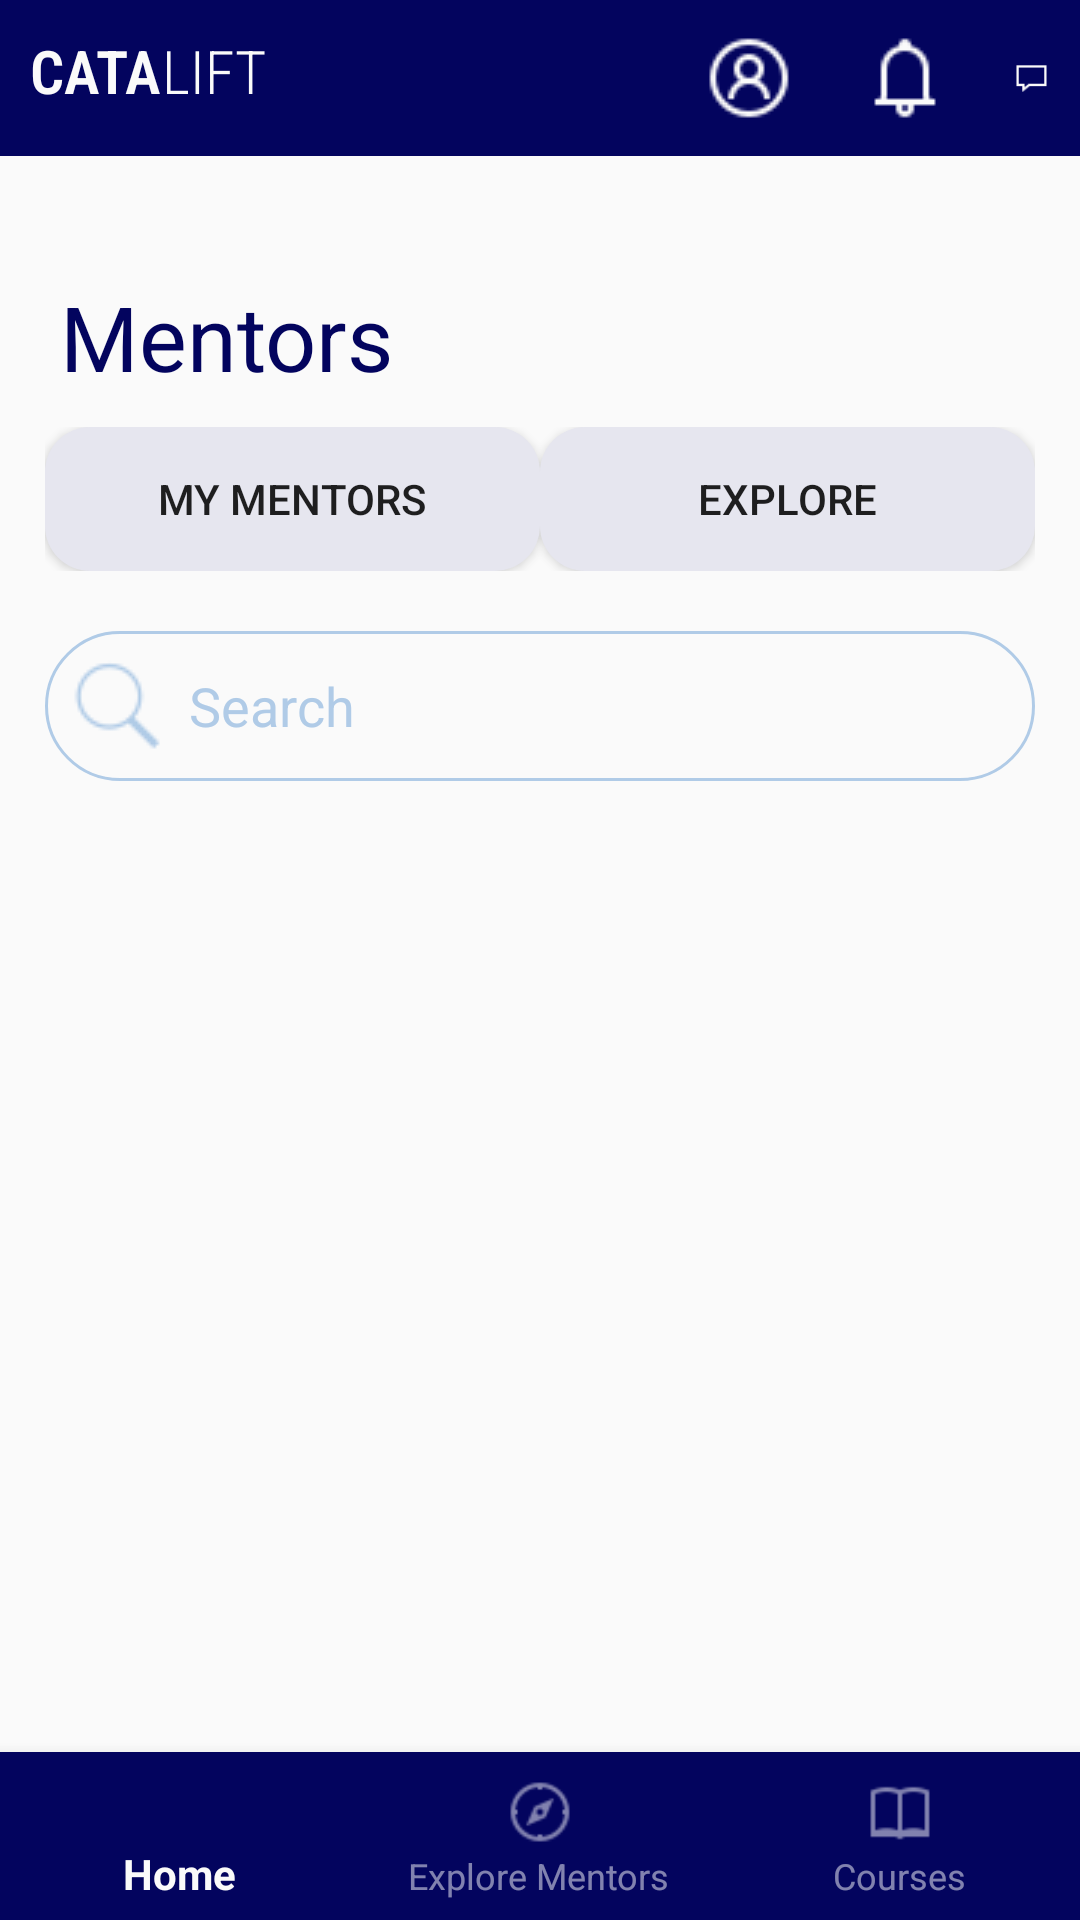

Screen size 1080 x 1920. Icon name, then its box in pixels as [x1, y1, x2, y2]:
bell: [874, 38, 936, 118]
message: [1016, 65, 1047, 92]
profile: [709, 38, 789, 118]
